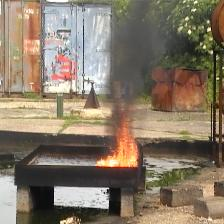fire: (96, 107, 138, 167)
